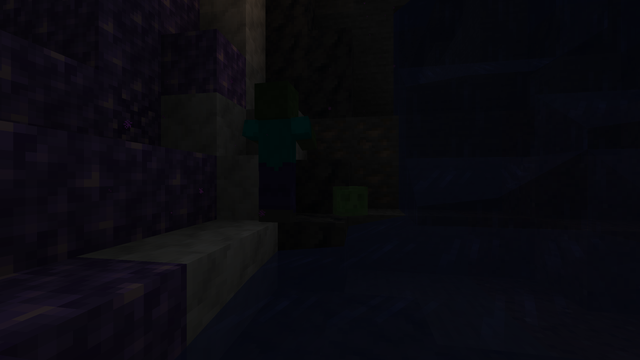slimes: (332, 185, 362, 216)
zombies: (250, 82, 301, 224)
